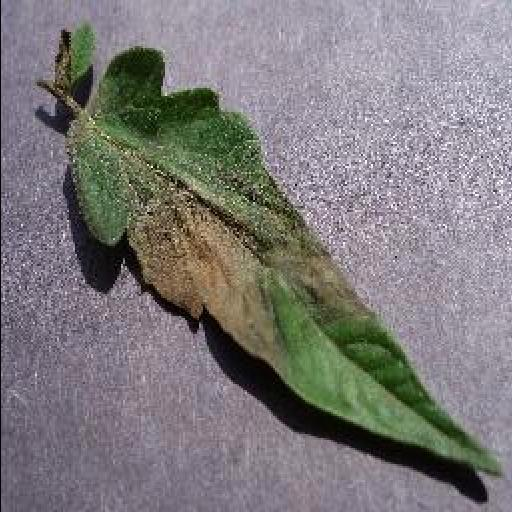disease_tomato: (67, 50, 505, 478)
